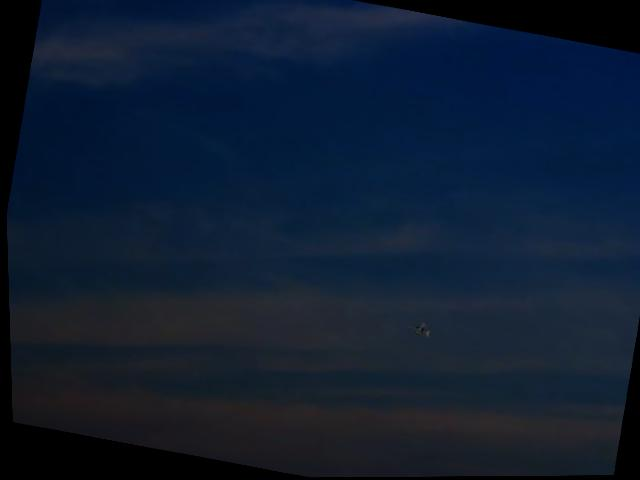uav: (408, 317, 430, 339)
